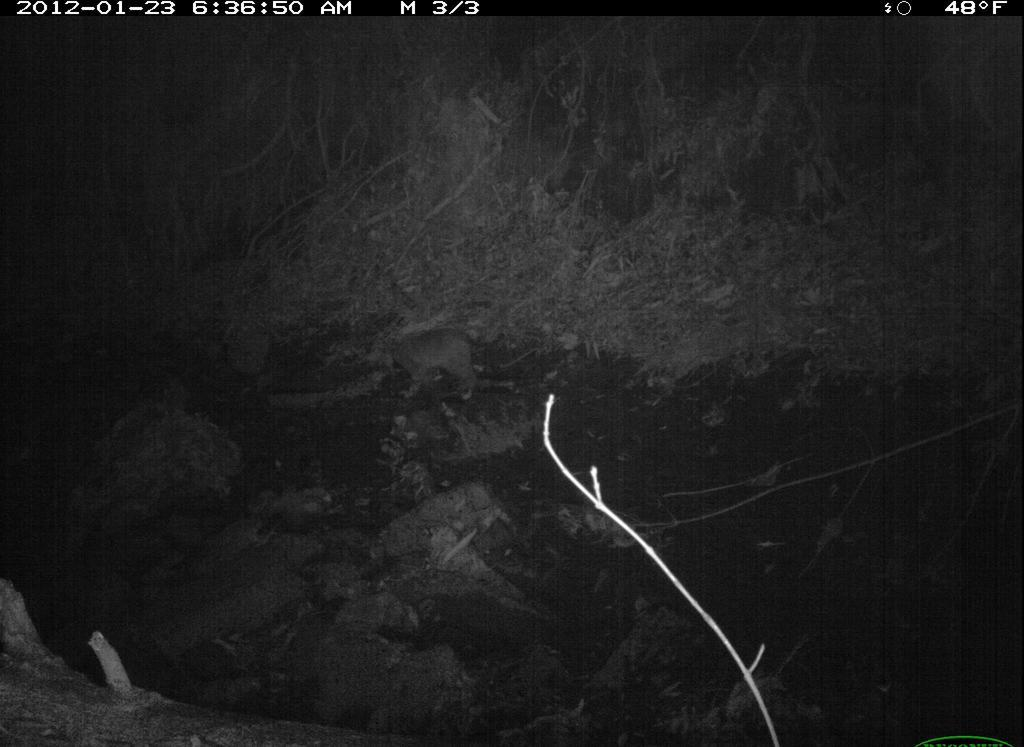bobcat: (350, 310, 494, 416)
